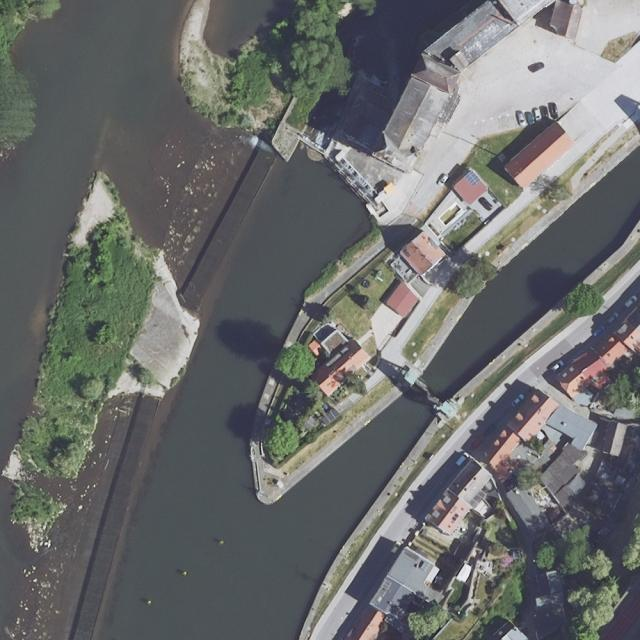PV: (465, 171, 480, 187)
